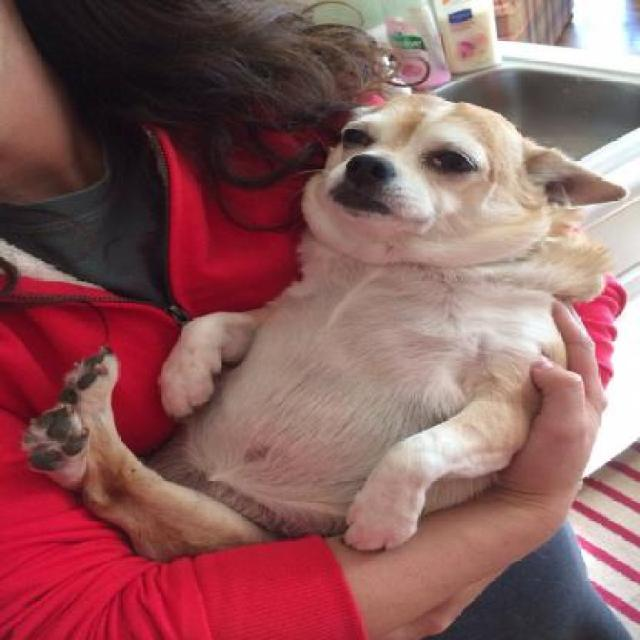Dog: (18, 92, 624, 566)
